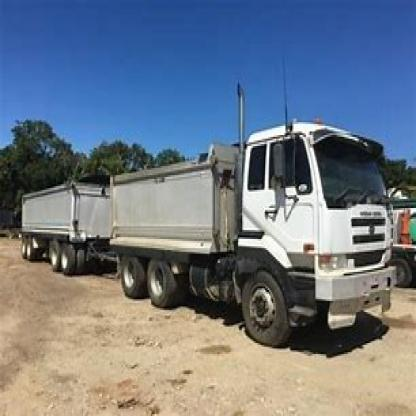dump_truck: (103, 100, 412, 352)
